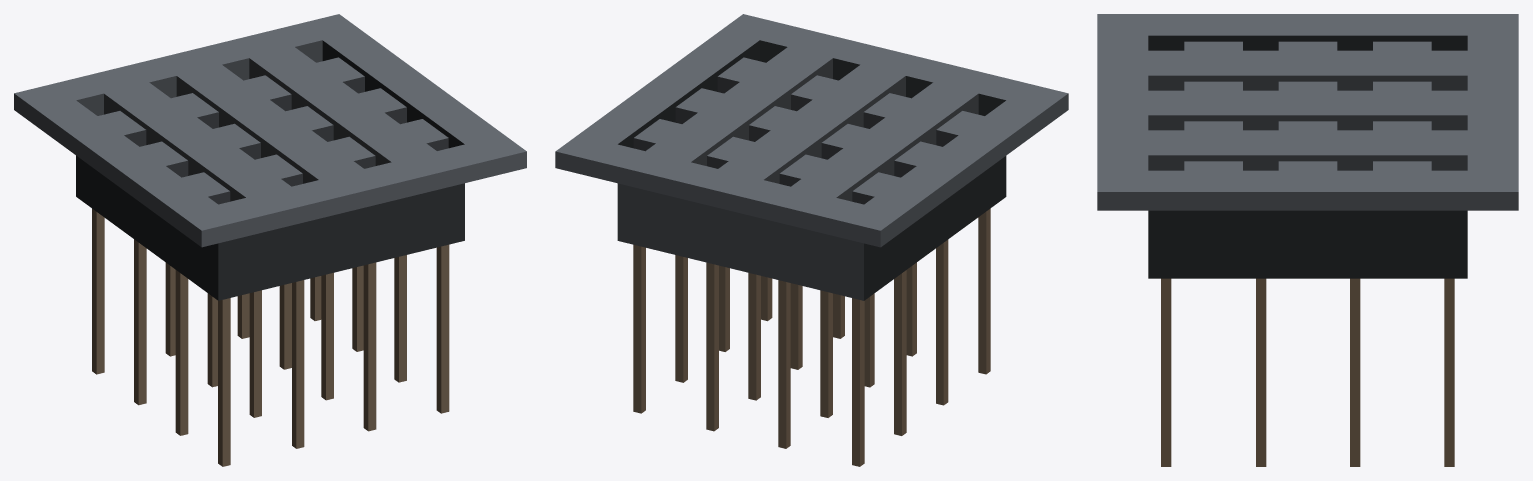
File: SD_Trap_SpikeGrate_01.fbx
3 renders of one model, left to right at view 1: azimuth 30°, elevation 25°; view 2: azimuth 150°, elevation 25°; view 3: azimuth 270°, elevation 25°, orthographic. The views are drawn at different scales.
Visible parts, largest first — view 1: SD_Trap_SpikeGrate_01, Spikes; view 2: SD_Trap_SpikeGrate_01, Spikes; view 3: SD_Trap_SpikeGrate_01, Spikes.
Part boxes in pixels (x1=…): SD_Trap_SpikeGrate_01: x1=14, y1=14, x2=526, y2=300; Spikes: x1=92, y1=208, x2=449, y2=466; SD_Trap_SpikeGrate_01: x1=555, y1=14, x2=1068, y2=300; Spikes: x1=633, y1=208, x2=990, y2=466; SD_Trap_SpikeGrate_01: x1=1097, y1=14, x2=1518, y2=278; Spikes: x1=1161, y1=278, x2=1454, y2=466.
Bounding box in the file's own units: 4.66 × 3.69 × 4.66.
